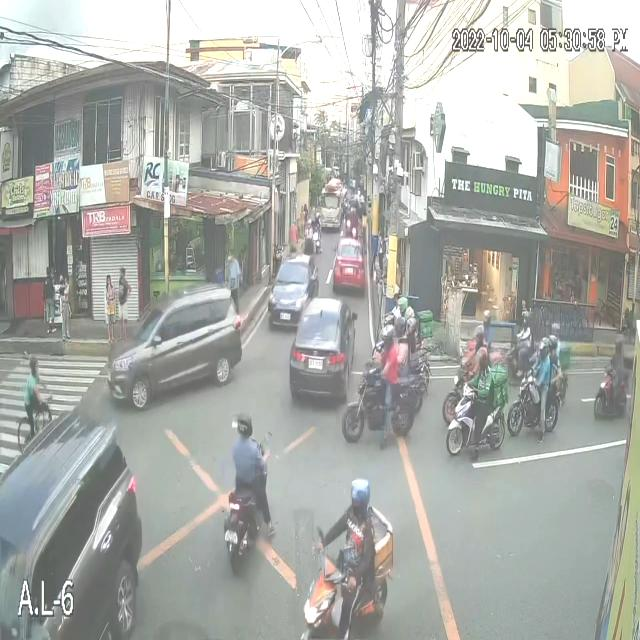Full-Faced: (350, 474, 370, 511), (230, 410, 251, 442), (397, 296, 411, 318), (538, 337, 550, 361), (608, 340, 619, 366), (469, 328, 483, 346), (479, 349, 490, 371), (380, 330, 393, 346), (385, 312, 395, 329), (484, 311, 492, 332), (547, 318, 556, 336), (406, 313, 416, 327), (532, 313, 542, 327)
Half-Faced: (31, 352, 41, 378), (348, 205, 357, 224)
Not-Wearing-Helmet: (359, 207, 368, 226)
